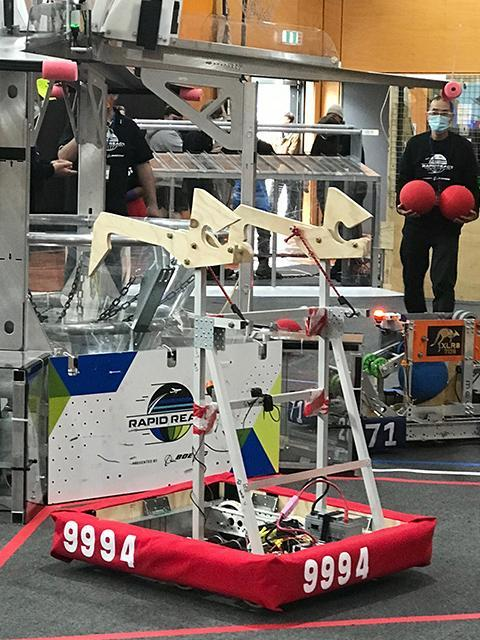robot: (51, 185, 440, 618), (284, 300, 480, 456)
